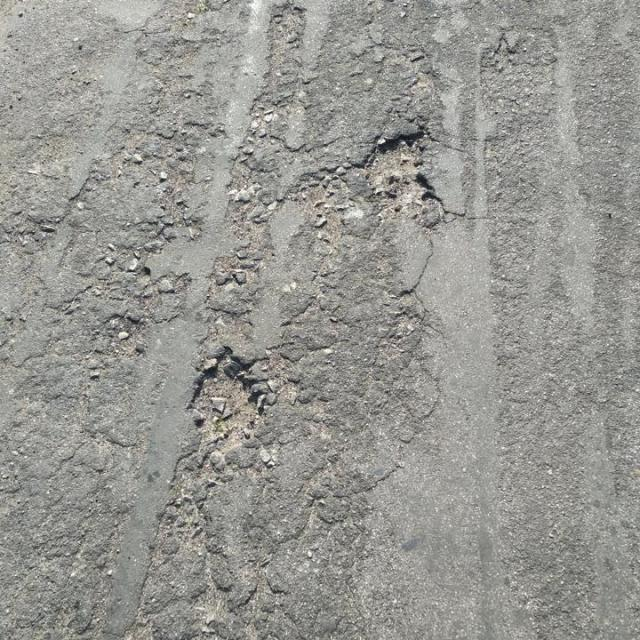Pothole: (186, 343, 266, 450), (361, 124, 442, 222), (190, 353, 262, 450), (362, 132, 437, 220)
